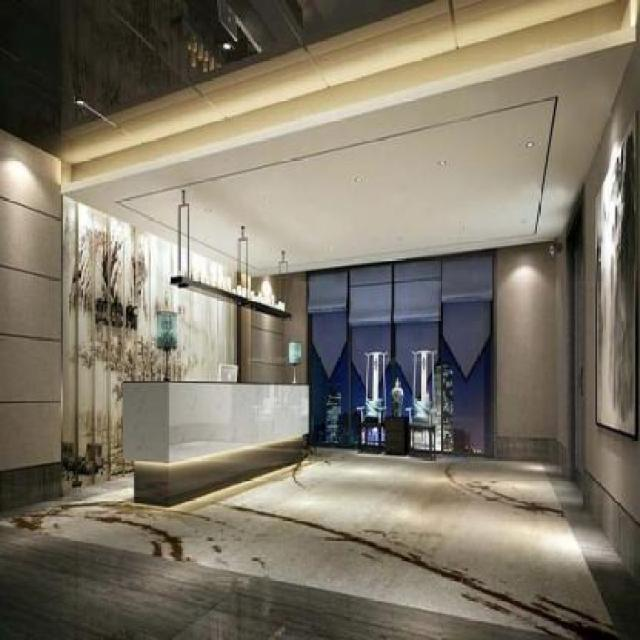frontdesk: (120, 374, 316, 513)
